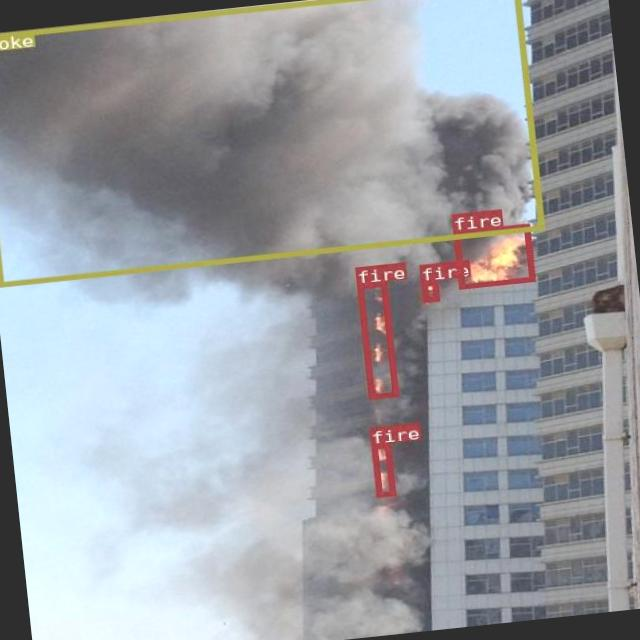fire: (451, 222, 534, 288), (356, 281, 396, 398), (370, 442, 394, 497), (420, 278, 438, 302)
smoke: (0, 0, 542, 286)
